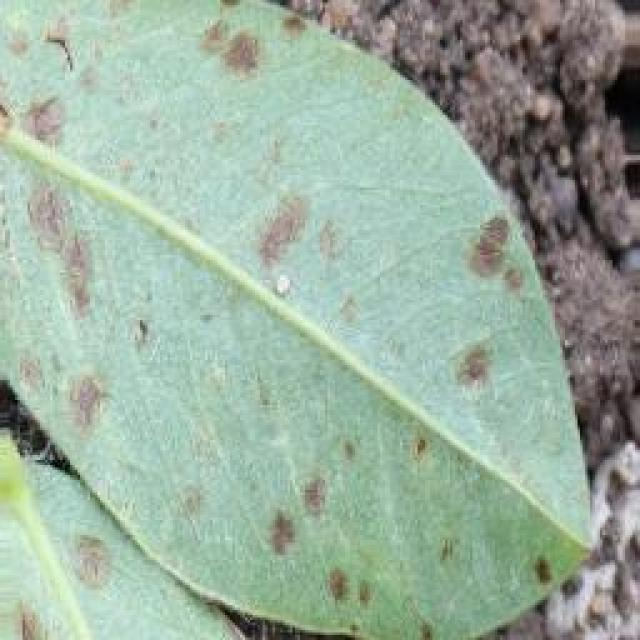Whitefly: (0, 92, 129, 336), (225, 179, 395, 349), (230, 437, 399, 563), (395, 302, 535, 440), (417, 180, 525, 321), (25, 323, 161, 434), (172, 0, 303, 114), (46, 504, 154, 597), (0, 0, 112, 87), (316, 538, 411, 618)
